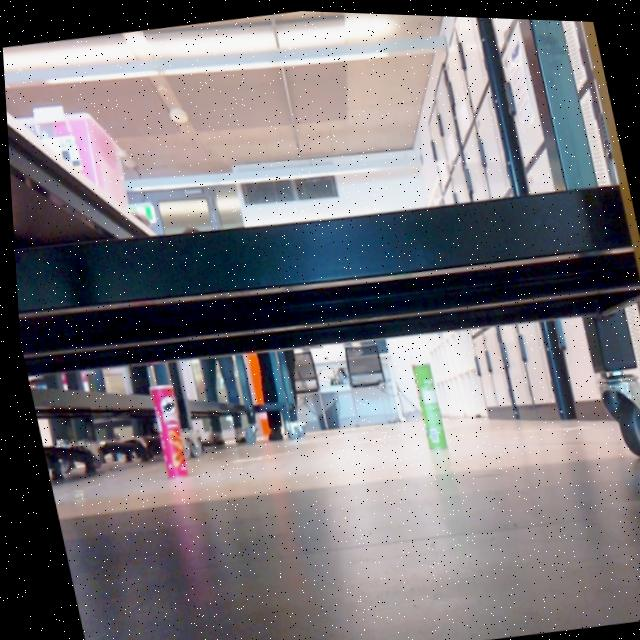greenpringles: (383, 336, 463, 467)
redpringles: (125, 346, 199, 495)
